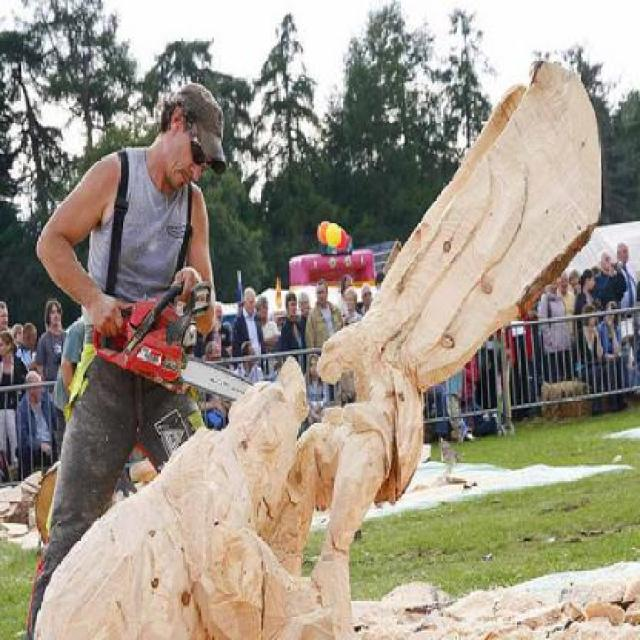Chainsaw: (88, 268, 257, 403)
